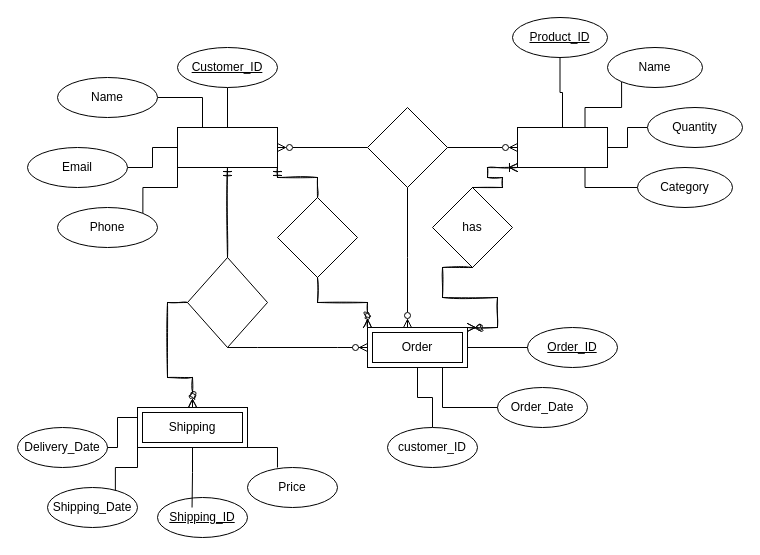
The diagram is 760 pixels wide and 555 high, and some of its shapes have lost their labels. The shapes that lost their labels are listed below. From the top down, each one's centre as x and y in pixels, then its label:
At point 227,147: "Customer".
At point 407,147: "orders".
At point 562,147: "Product".
At point 317,237: "makes".
At point 227,302: "shipped to".
